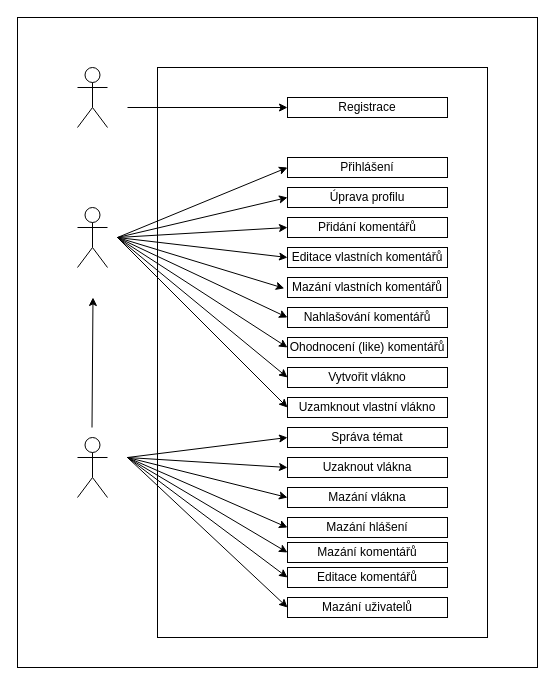
Image size: 555x685. Some labels were removed from this diagram. Each missing label, with the centre of its shape:
"Admin" belongs at pixel 92 467.
"Neregistrovaný uživatel" belongs at pixel 92 97.
"Registrovaný uživatel" belongs at pixel 92 237.
